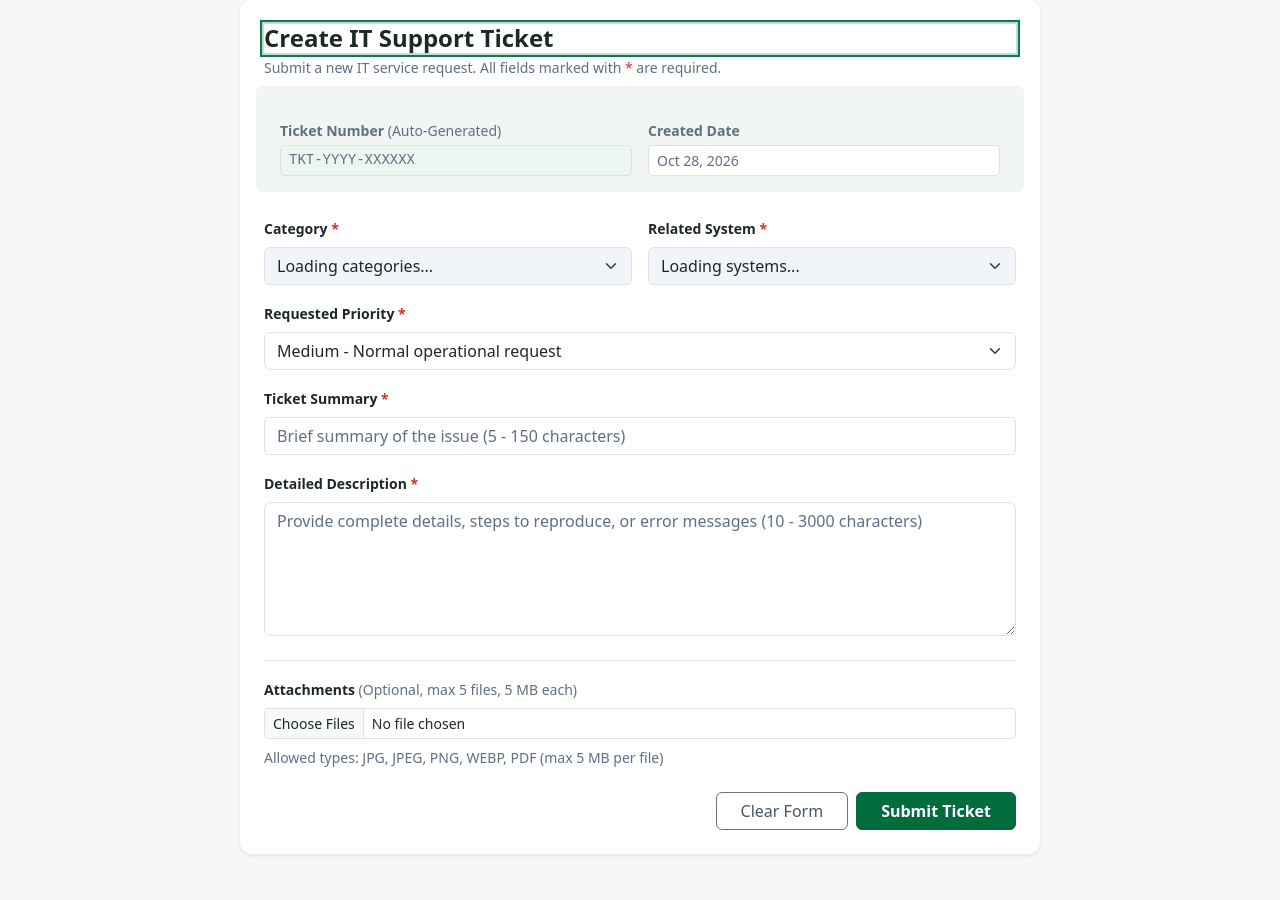
Test: Lab 2 Create Ticket Form Validation & Submission UI (UI-02, UI-08, UI-STYLE-01) › shows busy state and prevents duplicate submission on submit (UI-08, BR-13, AC-14)
Step 1. Type "Valid Summary for Ticket" into the field labelled "Ticket Summary *" → (640, 436), box [264,417,1016,455]
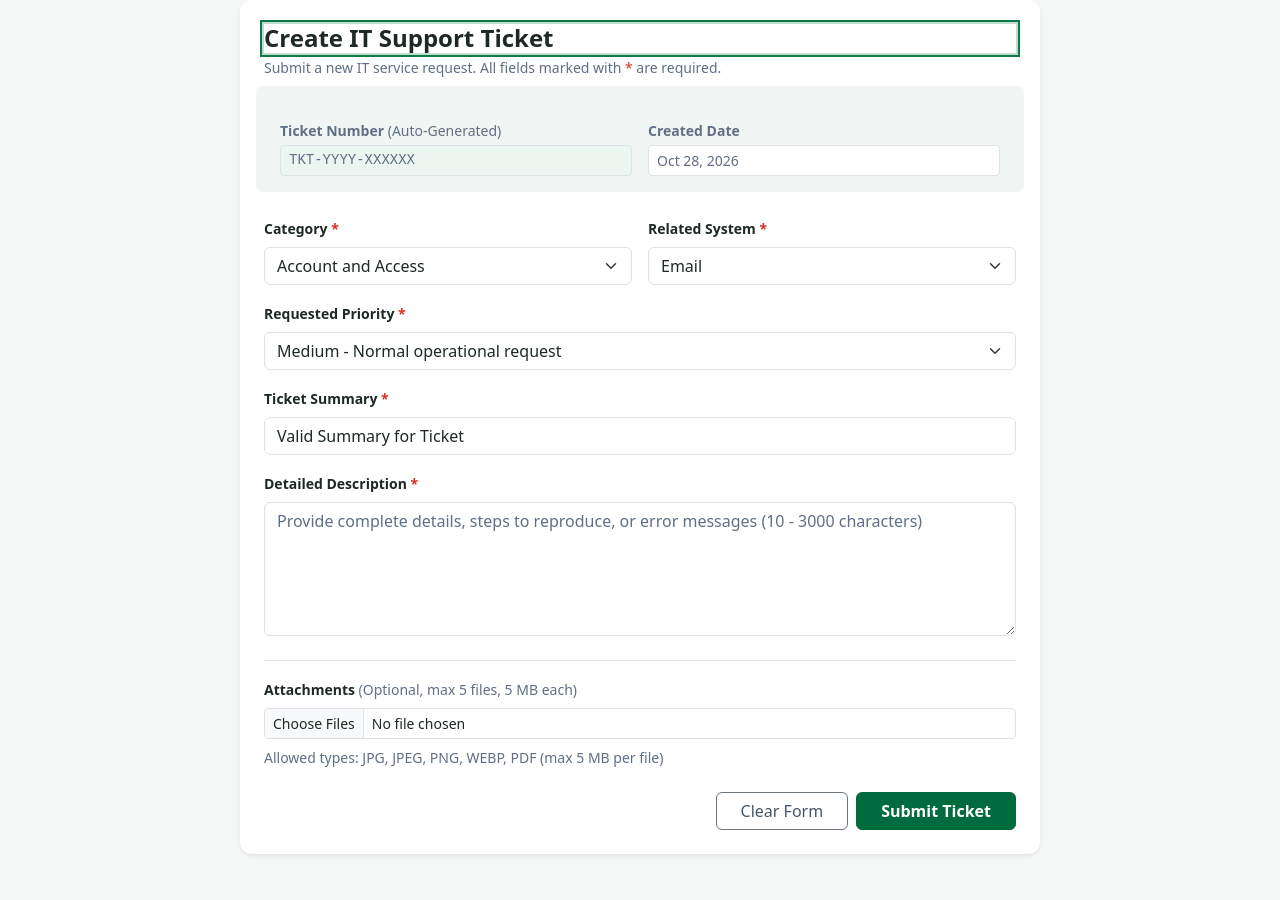
Step 2. Replace the text in the text box labelled "Detailed Description *" with "Valid Detailed Description for Ticket Submission" → (640, 569), box [264,502,1016,636]
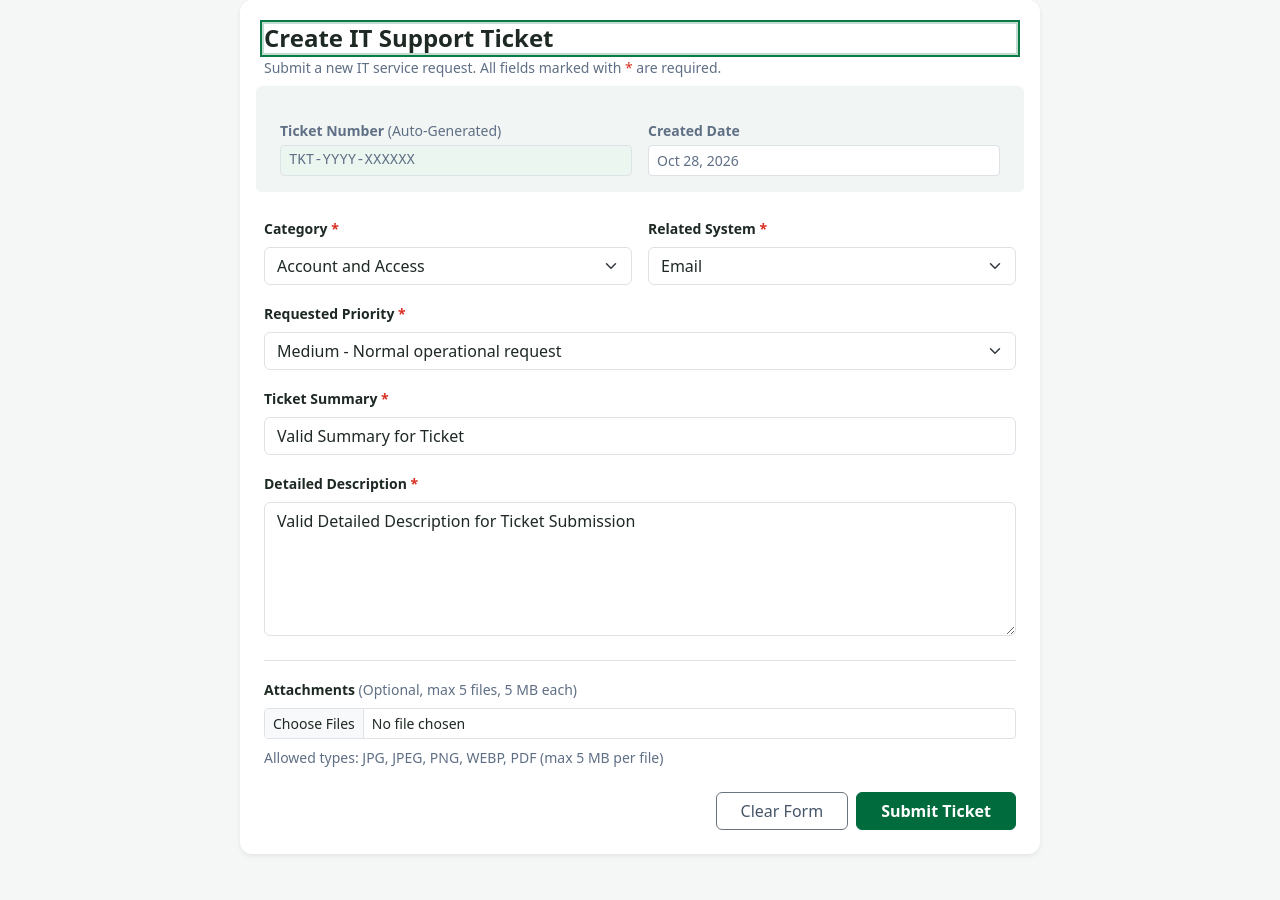
Step 3. Click the button "Submit Ticket" → (936, 811), box [856,792,1016,830]
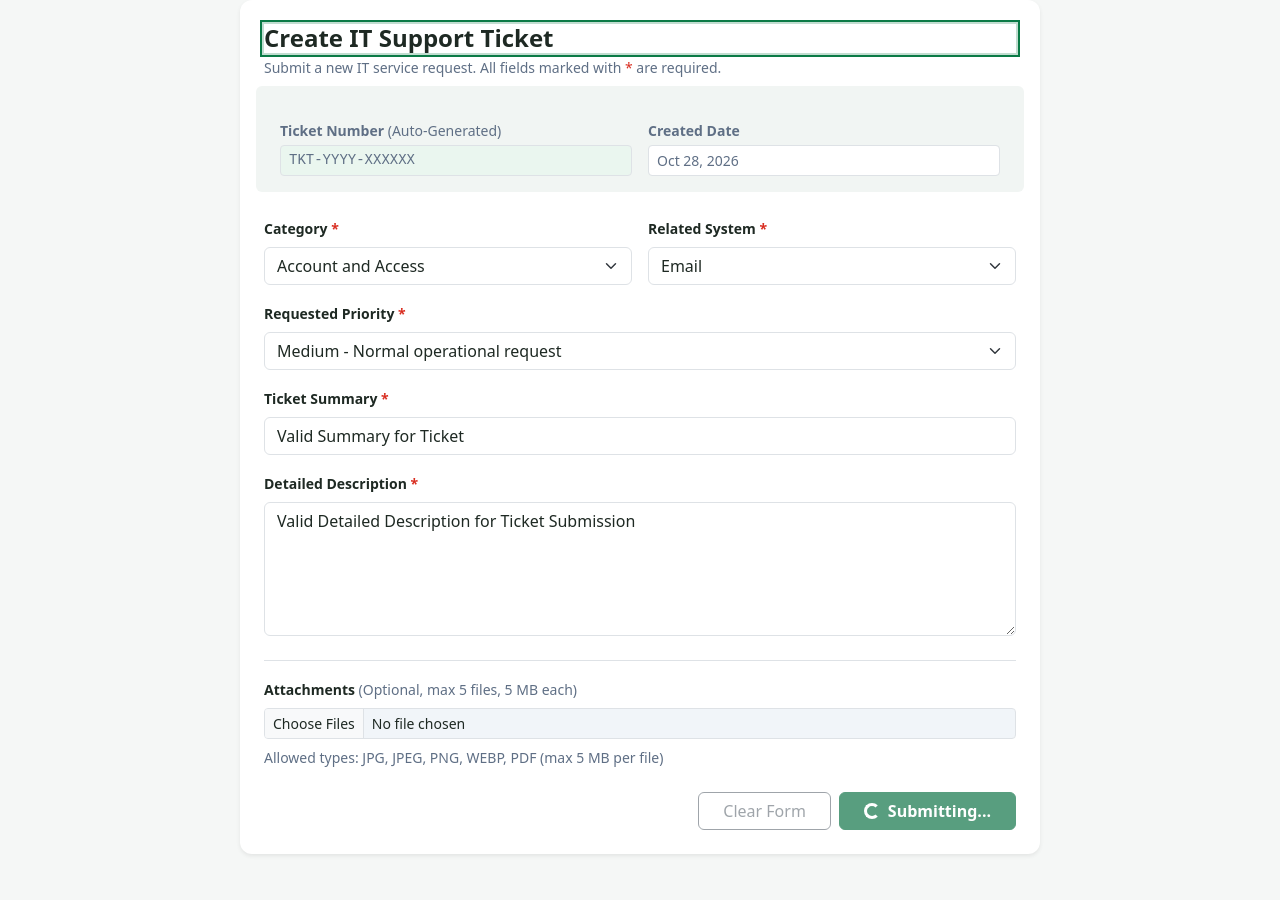
Now the text "Submitting..." is shown, box [888,799,991,823]
Now the button named "Submit Ticket" is disabled
Note: Attempt second click while busy (BR-13 lock)
Step 4. Click the button named "Submit Ticket" → (927, 811), box [839,792,1016,830]
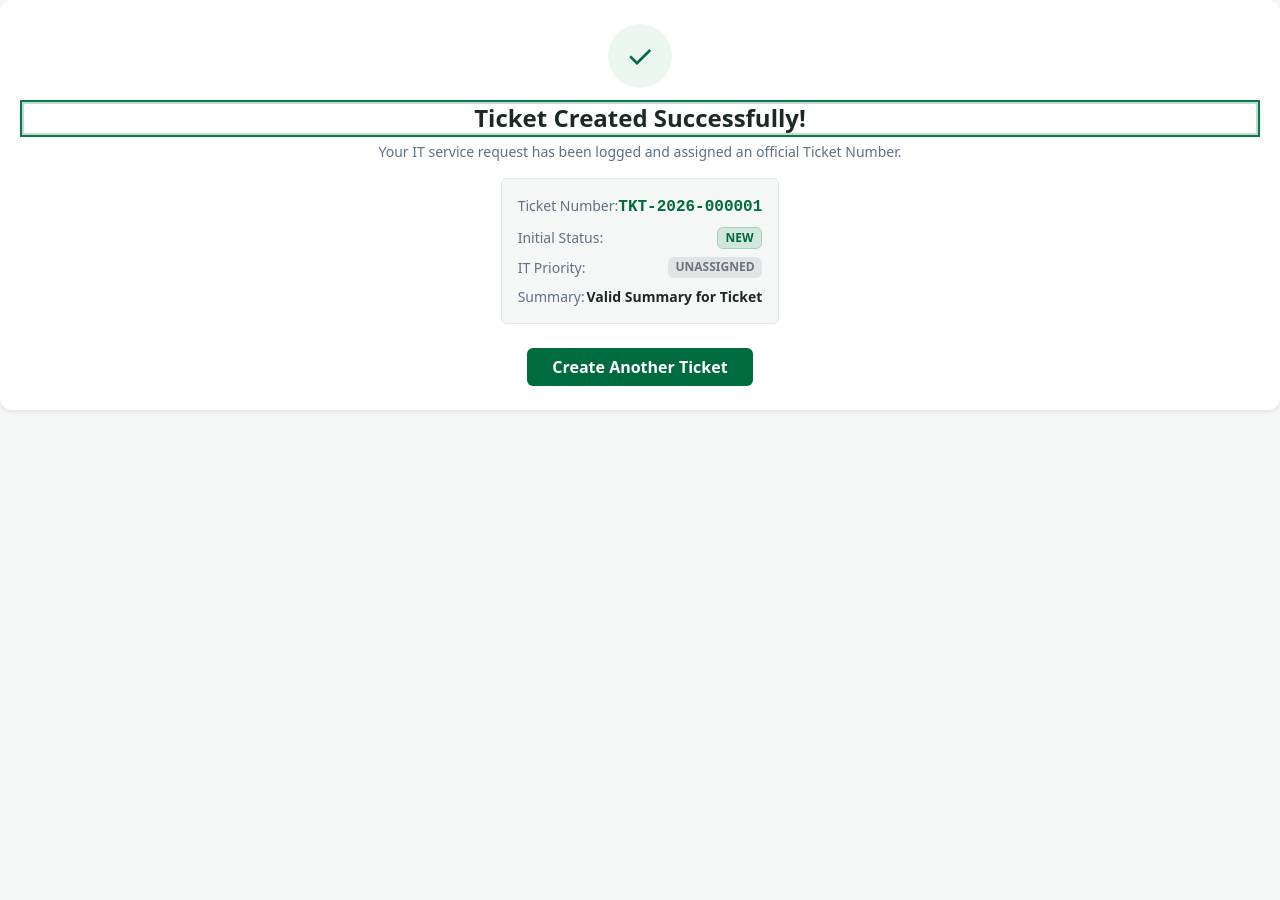
Now the heading "Ticket Created Successfully!" is shown, box [24,104,1256,133]
Now the text "TKT-2026-000001" is shown, box [618,195,762,219]
